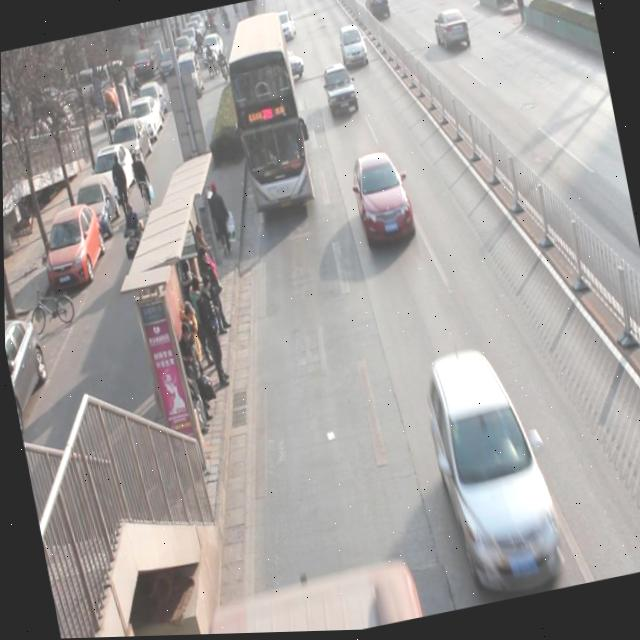car: (420, 354, 562, 584), (347, 152, 417, 248), (254, 41, 309, 90), (321, 65, 359, 121), (431, 8, 473, 58), (335, 26, 370, 74), (271, 10, 298, 46), (360, 0, 392, 27)
van: (218, 12, 316, 214)
